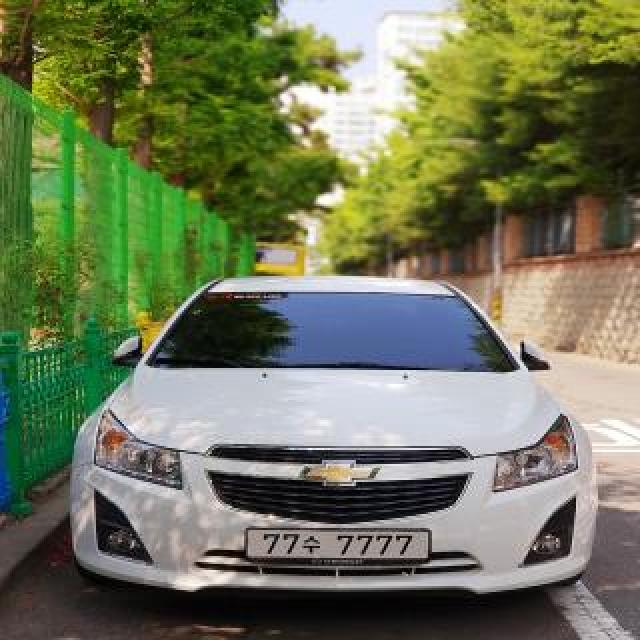car: (71, 266, 609, 606)
illegal_plate: (240, 522, 435, 572)
